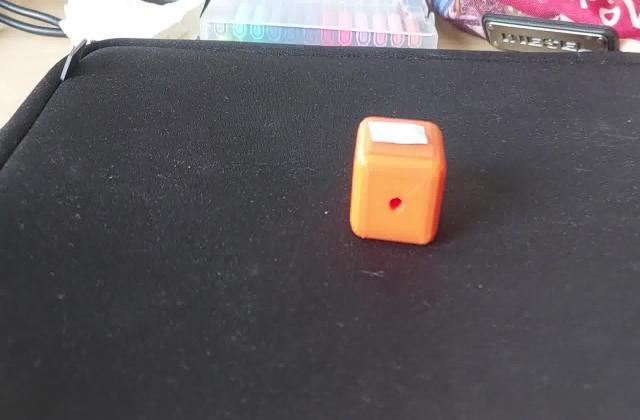cube: (346, 114, 448, 252)
white: (363, 118, 433, 152)
